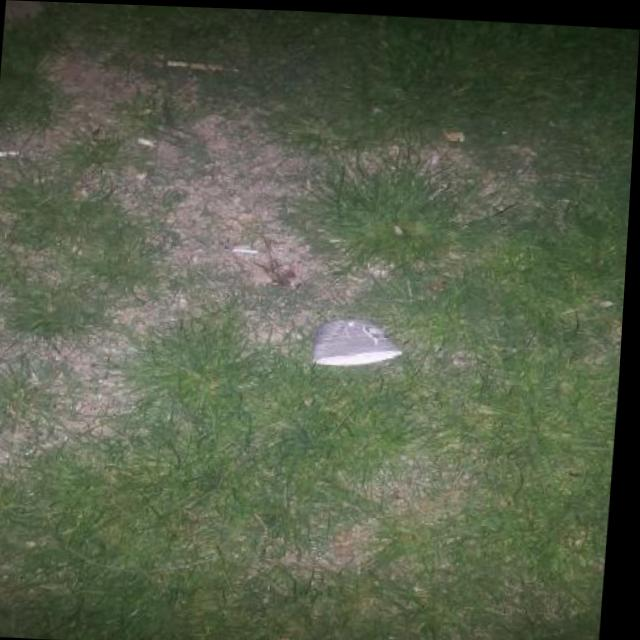cardboard: (284, 226, 341, 324)
